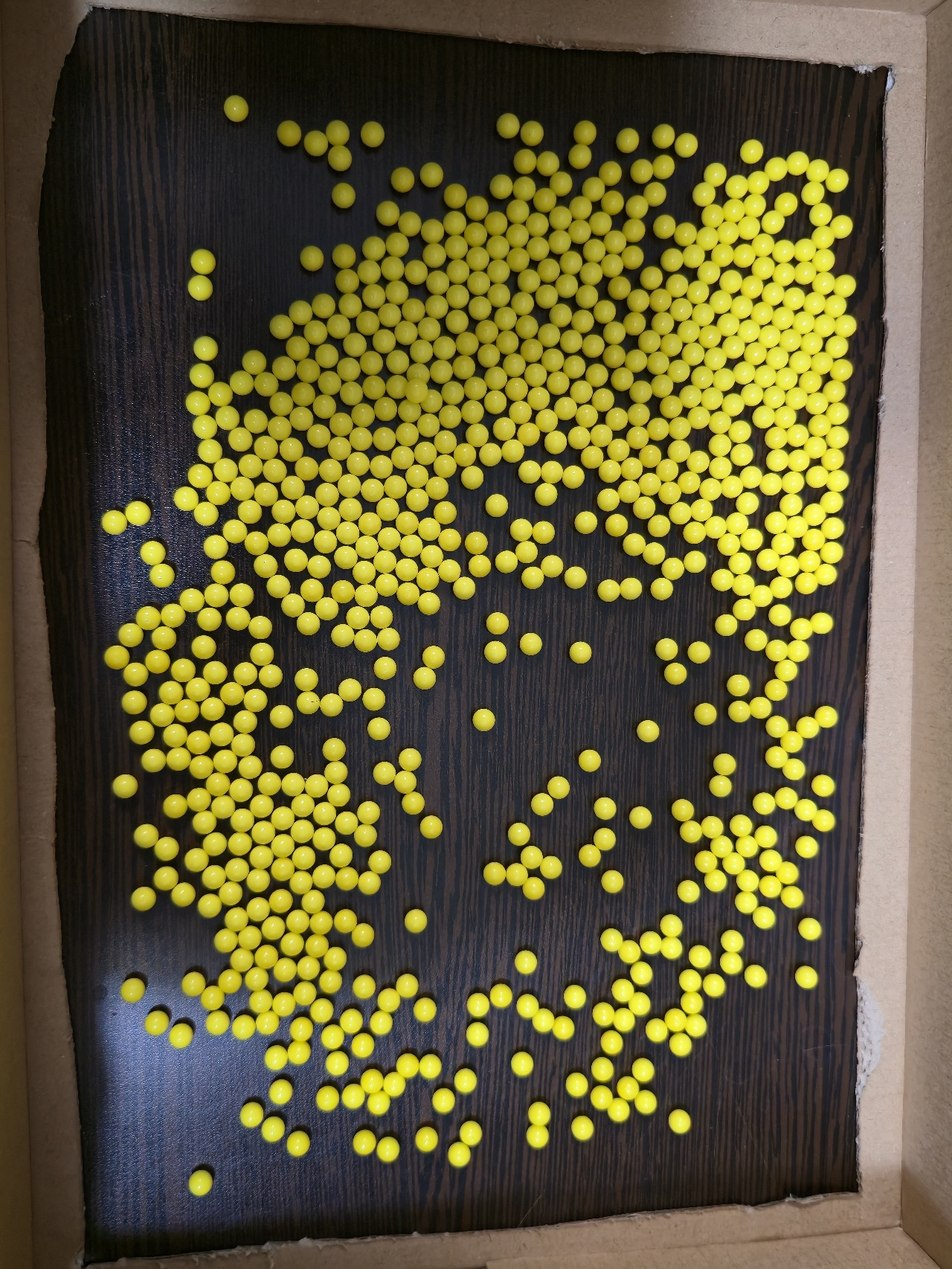yellow_bead: (199, 507, 212, 521), (180, 492, 193, 506), (193, 281, 206, 295), (131, 507, 144, 520), (234, 433, 247, 446), (221, 411, 234, 424), (108, 515, 120, 529), (758, 912, 771, 924), (209, 541, 222, 553), (219, 464, 233, 475), (460, 1076, 472, 1088), (637, 1064, 649, 1076), (750, 970, 762, 982), (689, 556, 701, 568), (791, 521, 803, 533), (715, 462, 727, 474), (204, 445, 216, 457), (758, 411, 770, 423), (807, 187, 819, 199), (466, 1127, 477, 1140), (674, 1115, 685, 1128), (331, 1059, 344, 1070), (472, 1028, 483, 1041), (252, 903, 263, 916), (795, 623, 808, 634), (772, 455, 785, 466), (790, 430, 803, 441), (699, 187, 710, 200), (771, 163, 782, 176), (801, 971, 812, 983), (521, 956, 532, 968), (646, 937, 657, 949), (727, 935, 739, 946), (805, 923, 816, 935), (801, 841, 813, 852), (800, 804, 812, 815), (599, 803, 611, 814), (751, 634, 762, 646), (808, 509, 820, 520), (745, 472, 757, 483), (524, 466, 536, 477), (736, 449, 748, 460), (832, 431, 843, 443), (791, 393, 803, 404), (739, 367, 750, 379), (199, 343, 210, 355), (832, 341, 843, 353), (728, 341, 739, 353), (715, 296, 727, 307), (731, 181, 742, 193), (267, 1123, 277, 1136), (776, 539, 789, 549), (811, 472, 824, 482), (517, 1057, 528, 1068), (636, 968, 647, 979), (666, 943, 677, 954), (666, 920, 677, 931), (684, 886, 695, 897), (710, 876, 721, 887), (607, 876, 618, 887), (765, 855, 776, 866), (736, 820, 747, 831), (819, 815, 830, 826), (635, 812, 646, 823), (277, 812, 288, 823), (759, 798, 770, 809), (789, 764, 800, 775), (147, 754, 158, 765), (643, 725, 654, 736), (490, 646, 501, 657), (721, 620, 732, 631), (817, 618, 828, 629), (626, 583, 637, 594), (459, 582, 470, 593), (776, 582, 787, 593), (718, 574, 729, 585), (570, 572, 581, 583), (362, 541, 373, 552), (747, 534, 758, 545), (516, 524, 527, 535), (675, 507, 686, 518), (742, 498, 753, 509), (788, 477, 799, 488), (832, 475, 843, 486), (420, 447, 431, 458), (810, 442, 821, 453), (715, 440, 726, 451), (199, 421, 210, 432), (250, 415, 261, 426), (542, 414, 553, 425), (780, 412, 791, 423), (747, 389, 758, 400), (236, 377, 247, 388), (760, 371, 771, 382), (710, 353, 721, 364), (744, 326, 755, 337), (820, 320, 831, 331), (723, 319, 734, 330), (725, 275, 736, 286), (704, 266, 715, 277), (812, 165, 823, 176), (652, 1024, 662, 1036), (538, 1015, 548, 1027), (710, 980, 720, 992), (774, 610, 786, 620), (667, 563, 679, 573), (734, 558, 746, 568), (711, 521, 721, 533), (706, 483, 716, 495), (245, 460, 257, 470), (297, 412, 307, 424), (796, 356, 806, 368), (779, 312, 789, 324), (840, 280, 850, 292), (817, 232, 829, 242), (837, 221, 847, 233), (572, 990, 581, 1003), (296, 825, 309, 834), (147, 547, 160, 556), (228, 525, 241, 534), (343, 480, 356, 489), (268, 464, 281, 473), (348, 1016, 358, 1027), (411, 915, 422, 925), (742, 876, 753, 886), (208, 870, 219, 880), (599, 833, 610, 843), (762, 831, 772, 842), (140, 829, 151, 839), (781, 793, 792, 803), (715, 781, 726, 791), (772, 722, 783, 732), (479, 714, 489, 725), (694, 647, 705, 657), (793, 646, 804, 656), (661, 644, 672, 654), (828, 547, 838, 558), (826, 497, 837, 507), (603, 494, 614, 504), (237, 482, 248, 492), (287, 481, 298, 491), (766, 478, 776, 489), (645, 478, 655, 489), (376, 461, 387, 471), (353, 457, 364, 467), (694, 456, 704, 467), (828, 454, 839, 464), (674, 446, 685, 456), (574, 432, 585, 442), (473, 429, 483, 440), (736, 426, 746, 437), (807, 376, 817, 387), (720, 374, 730, 385), (782, 373, 792, 384), (773, 353, 783, 364), (751, 348, 761, 359), (765, 331, 775, 342), (840, 321, 851, 331), (789, 293, 800, 303), (780, 269, 790, 280), (801, 268, 811, 279), (689, 250, 699, 261), (800, 244, 811, 254), (745, 222, 755, 233), (750, 200, 760, 211), (747, 145, 758, 155), (319, 1004, 328, 1016), (697, 951, 706, 963), (608, 934, 617, 946), (741, 899, 753, 908), (335, 849, 347, 858), (119, 780, 131, 789), (287, 778, 299, 787), (275, 710, 287, 719), (344, 684, 356, 693), (337, 629, 349, 638), (302, 617, 314, 626), (155, 569, 167, 578), (379, 556, 391, 565), (521, 547, 533, 556), (297, 524, 309, 533), (302, 501, 314, 510), (321, 489, 333, 498), (550, 437, 562, 446), (834, 408, 843, 420), (709, 393, 718, 405), (787, 335, 796, 347), (678, 303, 687, 315), (738, 301, 747, 313), (820, 254, 829, 266), (620, 984, 628, 997), (231, 612, 244, 620), (210, 589, 223, 597), (272, 580, 285, 588), (340, 551, 353, 559), (319, 536, 332, 544), (578, 1125, 588, 1135), (701, 709, 711, 719), (782, 665, 792, 675), (576, 647, 586, 657), (650, 548, 660, 558), (640, 502, 650, 512), (212, 486, 222, 496), (356, 433, 366, 443), (500, 423, 510, 433), (561, 402, 571, 412), (686, 391, 696, 401), (698, 372, 708, 382), (684, 326, 694, 336), (759, 239, 769, 249), (793, 157, 803, 167), (677, 1040, 686, 1051), (213, 1018, 224, 1027), (402, 980, 413, 989), (726, 959, 737, 968), (231, 913, 242, 922), (204, 899, 213, 910), (231, 864, 242, 873), (731, 858, 740, 869), (526, 851, 537, 860), (744, 841, 753, 852), (718, 841, 727, 852), (257, 826, 268, 835), (709, 821, 718, 832), (237, 814, 248, 823), (363, 806, 374, 815), (537, 799, 548, 808), (379, 767, 390, 776), (719, 759, 730, 768), (805, 722, 814, 733), (823, 711, 832, 722), (327, 699, 338, 708), (376, 611, 387, 620), (758, 591, 767, 602), (740, 580, 749, 591), (629, 539, 640, 548), (345, 504, 356, 513), (541, 489, 552, 498), (625, 486, 634, 497), (412, 470, 423, 479), (547, 466, 558, 475), (596, 430, 607, 439), (817, 420, 826, 431), (717, 417, 726, 428), (695, 412, 704, 423), (515, 407, 526, 416), (730, 399, 739, 410), (599, 394, 608, 405), (829, 387, 840, 396), (352, 339, 361, 350), (700, 309, 709, 320), (811, 298, 820, 309), (695, 286, 704, 297), (525, 1000, 533, 1012), (687, 974, 695, 986), (256, 800, 268, 808), (276, 751, 288, 759), (237, 739, 249, 747), (419, 672, 431, 680), (265, 670, 277, 678), (256, 648, 268, 656), (287, 599, 299, 607), (185, 594, 197, 602), (323, 513, 335, 521), (243, 506, 255, 514), (277, 505, 289, 513), (785, 499, 797, 507), (367, 484, 379, 492), (684, 139, 692, 151), (533, 1134, 543, 1143), (238, 1024, 247, 1034), (378, 1019, 387, 1029), (138, 892, 148, 901), (785, 867, 794, 877), (547, 861, 556, 871), (161, 842, 171, 851), (554, 782, 564, 791), (773, 752, 782, 762), (734, 680, 744, 689), (774, 645, 783, 655), (526, 638, 536, 647), (383, 633, 393, 642), (741, 604, 750, 614), (657, 583, 667, 592), (803, 578, 812, 588), (528, 572, 538, 581), (823, 569, 832, 579), (811, 534, 820, 544), (692, 527, 701, 537), (425, 523, 435, 532), (413, 494, 423, 503), (569, 471, 579, 480), (663, 465, 673, 474), (398, 452, 408, 461), (508, 445, 518, 454), (286, 443, 296, 452), (335, 443, 345, 452), (442, 436, 451, 446), (314, 430, 324, 439), (469, 405, 478, 415), (659, 380, 668, 390), (818, 358, 827, 368), (418, 347, 428, 356), (441, 344, 451, 353), (808, 338, 817, 348), (425, 323, 435, 332), (759, 309, 768, 319), (832, 301, 841, 311), (674, 280, 683, 290), (644, 1097, 652, 1108), (176, 1034, 187, 1042), (693, 1021, 701, 1032), (621, 1015, 629, 1026), (637, 999, 645, 1010), (791, 891, 799, 902), (318, 870, 329, 878), (374, 856, 385, 864), (255, 852, 266, 860), (297, 800, 308, 808), (822, 780, 830, 791), (311, 780, 322, 788), (264, 777, 275, 785), (244, 761, 255, 769), (405, 754, 416, 762), (216, 728, 227, 736), (136, 726, 147, 734), (128, 696, 139, 704), (368, 693, 379, 701), (380, 662, 391, 670), (353, 612, 364, 620), (361, 590, 372, 598), (359, 566, 370, 574), (547, 561, 558, 569), (384, 533, 395, 541), (654, 521, 665, 529), (492, 500, 503, 508), (667, 487, 675, 498), (391, 481, 402, 489), (467, 472, 478, 480), (485, 449, 496, 457), (691, 348, 699, 359), (333, 790, 345, 797), (399, 777, 411, 784), (373, 723, 385, 730), (239, 716, 251, 723), (300, 674, 312, 681), (239, 668, 251, 675), (321, 603, 333, 610), (236, 589, 248, 596), (216, 566, 228, 573), (313, 561, 325, 568), (290, 554, 302, 561), (260, 488, 272, 495), (350, 1094, 359, 1103), (190, 853, 199, 862), (503, 556, 512, 565), (686, 477, 695, 486), (607, 466, 616, 475), (628, 463, 637, 472), (262, 441, 271, 450), (405, 428, 414, 437), (614, 414, 623, 423), (402, 328, 411, 337), (335, 321, 344, 330), (196, 256, 205, 265), (704, 233, 713, 242), (189, 978, 199, 986), (268, 922, 278, 930), (308, 896, 318, 904), (178, 888, 188, 896), (365, 877, 375, 885), (161, 872, 171, 880), (299, 852, 309, 860), (209, 838, 219, 846), (329, 743, 339, 751), (735, 706, 745, 714), (758, 702, 766, 712), (192, 683, 202, 691), (210, 666, 220, 674), (199, 641, 209, 649), (361, 634, 371, 642), (424, 597, 434, 605), (727, 539, 735, 549), (326, 464, 336, 472), (382, 433, 390, 443), (426, 420, 434, 430), (583, 410, 593, 418), (634, 409, 644, 417), (536, 393, 544, 403), (579, 386, 587, 396), (556, 377, 564, 387), (591, 340, 599, 350), (750, 281, 758, 291), (761, 263, 769, 273), (538, 1108, 545, 1119), (386, 994, 393, 1005), (628, 946, 635, 957), (689, 826, 696, 837), (217, 802, 228, 809), (236, 785, 247, 792), (330, 767, 341, 774), (219, 755, 230, 762), (156, 709, 167, 716), (775, 684, 782, 695), (124, 629, 135, 636), (255, 622, 266, 629), (167, 609, 178, 616), (382, 579, 393, 586), (273, 529, 284, 536), (581, 517, 592, 524), (677, 365, 684, 376), (840, 364, 847, 375), (570, 335, 577, 346), (383, 335, 390, 346), (498, 289, 505, 300), (566, 280, 573, 291), (245, 1108, 254, 1116), (440, 1099, 449, 1107), (130, 984, 138, 993), (226, 888, 235, 896), (513, 869, 522, 877), (704, 858, 712, 867), (320, 834, 329, 842), (672, 668, 681, 676), (144, 611, 152, 620), (446, 565, 455, 573), (275, 423, 284, 431), (559, 309, 567, 318), (435, 301, 443, 310), (742, 251, 750, 260), (725, 228, 733, 237), (360, 980, 367, 990), (220, 935, 230, 942), (588, 755, 595, 765), (170, 729, 180, 736), (493, 618, 503, 625), (205, 613, 215, 620), (401, 564, 411, 571), (403, 517, 413, 524), (441, 460, 451, 467), (617, 444, 624, 454), (678, 423, 685, 433), (350, 388, 357, 398), (249, 359, 259, 366), (396, 356, 403, 366), (662, 318, 669, 328), (671, 254, 678, 264), (195, 1177, 206, 1183), (234, 839, 245, 845), (158, 632, 169, 638), (416, 385, 422, 396), (457, 316, 463, 327), (390, 309, 396, 320), (616, 1109, 624, 1117), (574, 1082, 582, 1090), (304, 963, 312, 971), (332, 952, 340, 960), (429, 821, 437, 829), (635, 432, 643, 440), (371, 293, 379, 301), (436, 279, 444, 287), (427, 1063, 436, 1070), (199, 817, 208, 824), (791, 738, 798, 747), (208, 703, 217, 710), (251, 537, 260, 544), (446, 534, 455, 541), (827, 523, 836, 530), (384, 504, 393, 511), (434, 482, 443, 489), (303, 462, 312, 469), (656, 423, 663, 432), (451, 387, 458, 396), (495, 373, 502, 382), (440, 366, 447, 375), (573, 362, 580, 371), (552, 355, 559, 364), (548, 330, 555, 339), (613, 327, 620, 336), (479, 303, 486, 312), (521, 298, 528, 307), (478, 278, 485, 287), (433, 251, 440, 260), (559, 213, 566, 222), (602, 1064, 608, 1074), (253, 876, 263, 882), (166, 687, 176, 693), (514, 359, 520, 369), (649, 336, 655, 346), (505, 313, 511, 323), (457, 1152, 464, 1160), (376, 1101, 384, 1108), (477, 998, 484, 1006), (302, 988, 309, 996), (282, 964, 290, 971), (246, 932, 254, 939), (295, 916, 303, 923), (681, 805, 689, 812), (411, 797, 419, 804), (194, 794, 202, 801), (132, 668, 140, 675), (180, 664, 187, 672), (476, 560, 484, 567), (366, 518, 374, 525), (448, 411, 455, 419), (635, 356, 642, 364), (280, 323, 287, 331), (395, 287, 402, 295), (590, 269, 597, 277), (720, 251, 728, 258), (614, 237, 621, 245), (599, 219, 606, 227), (362, 831, 371, 837), (173, 754, 182, 760), (430, 652, 439, 658), (405, 588, 414, 594), (308, 585, 317, 591), (762, 554, 771, 560), (614, 519, 623, 525), (495, 396, 501, 405), (640, 387, 646, 396), (329, 377, 335, 386), (535, 369, 541, 378), (348, 364, 354, 373), (671, 340, 677, 349), (350, 301, 356, 310), (587, 292, 593, 301), (457, 291, 463, 300), (498, 266, 504, 275), (369, 266, 375, 275), (664, 221, 670, 230), (626, 135, 632, 144), (771, 517, 781, 522), (727, 481, 737, 486), (259, 997, 266, 1004), (239, 955, 246, 962), (298, 878, 305, 885), (493, 868, 500, 875), (323, 402, 330, 409), (314, 329, 321, 336), (650, 273, 657, 280), (431, 227, 438, 234), (453, 219, 460, 226), (474, 537, 482, 543), (443, 507, 451, 513), (197, 469, 205, 475), (590, 452, 598, 458), (638, 295, 644, 303), (416, 267, 422, 275), (477, 254, 483, 262), (498, 243, 504, 251), (559, 237, 565, 245), (637, 202, 643, 210), (654, 188, 660, 196), (232, 104, 238, 112), (771, 884, 776, 893), (672, 402, 677, 411), (432, 396, 437, 405), (597, 370, 602, 379), (658, 358, 663, 367), (327, 351, 332, 360), (605, 306, 610, 315), (547, 292, 552, 301), (612, 260, 617, 269), (457, 242, 462, 251), (195, 736, 202, 742), (347, 531, 354, 537), (516, 384, 522, 391), (283, 364, 289, 371), (489, 352, 495, 359), (299, 309, 306, 315), (322, 303, 329, 309), (457, 268, 464, 274), (392, 264, 398, 271), (594, 247, 600, 254), (373, 245, 379, 252), (538, 244, 544, 251), (282, 1000, 287, 1008), (590, 850, 595, 858), (425, 574, 433, 579), (696, 504, 704, 509), (408, 410, 416, 415), (530, 276, 535, 284), (571, 259, 576, 267), (397, 240, 402, 248), (686, 229, 691, 237), (580, 228, 585, 236), (594, 184, 599, 192), (289, 940, 295, 946), (533, 884, 539, 890), (199, 762, 205, 768), (785, 561, 794, 565), (411, 544, 417, 550), (280, 400, 286, 406), (475, 385, 481, 391), (582, 318, 588, 324), (580, 205, 586, 211), (643, 167, 647, 176), (330, 1036, 335, 1043), (329, 978, 336, 983), (623, 376, 628, 383), (615, 352, 620, 359), (508, 338, 513, 345), (519, 207, 524, 214), (525, 185, 530, 192), (549, 159, 553, 167), (665, 131, 669, 139), (602, 1011, 607, 1017), (362, 929, 367, 935), (173, 800, 178, 806), (216, 780, 222, 785), (303, 698, 308, 704), (342, 585, 347, 591), (431, 554, 437, 559), (651, 451, 656, 457), (466, 451, 471, 457), (341, 420, 347, 425), (362, 412, 367, 418), (528, 324, 533, 330), (660, 298, 666, 303), (501, 183, 507, 188), (832, 182, 838, 187), (664, 164, 669, 170), (393, 1082, 397, 1089), (115, 651, 119, 658), (732, 518, 739, 522), (530, 428, 534, 435), (417, 369, 424, 373), (373, 359, 377, 366), (519, 233, 523, 240), (756, 176, 763, 180), (805, 556, 814, 559), (693, 1002, 698, 1007), (232, 689, 237, 694), (609, 590, 614, 595), (779, 434, 784, 439), (633, 254, 638, 259), (538, 222, 543, 227), (256, 974, 259, 982), (280, 896, 284, 902), (349, 820, 353, 826), (267, 380, 271, 386), (533, 347, 537, 353), (635, 227, 639, 233), (562, 179, 566, 185), (581, 152, 585, 158), (509, 123, 513, 129), (794, 455, 801, 458), (298, 1051, 302, 1056), (185, 705, 189, 710), (465, 365, 469, 370), (468, 341, 472, 346), (410, 221, 415, 225), (388, 211, 393, 215), (821, 208, 826, 212), (387, 1148, 390, 1154), (425, 1008, 428, 1014), (637, 321, 640, 327), (369, 318, 372, 324), (714, 210, 716, 219), (488, 330, 492, 334), (414, 309, 418, 313), (550, 268, 554, 272), (276, 1087, 281, 1090), (155, 656, 158, 661), (268, 563, 271, 568), (386, 406, 389, 411), (341, 156, 344, 161), (321, 920, 324, 924), (283, 866, 286, 870), (521, 834, 524, 838), (811, 399, 815, 402), (622, 285, 625, 289), (498, 222, 502, 225), (479, 206, 482, 210), (285, 845, 288, 848), (327, 812, 330, 815), (257, 699, 260, 702), (740, 519, 743, 522), (704, 506, 707, 509), (770, 400, 773, 403), (770, 392, 773, 395), (806, 318, 809, 321), (521, 258, 524, 261), (478, 234, 481, 237), (432, 173, 435, 176), (318, 142, 321, 145), (678, 1019, 680, 1023), (774, 432, 778, 434), (206, 373, 208, 377), (313, 256, 315, 260), (535, 130, 537, 134), (362, 1143, 364, 1146), (771, 556, 774, 558), (298, 347, 300, 350), (349, 280, 351, 283), (768, 217, 771, 219), (790, 199, 792, 202), (547, 198, 550, 200), (345, 195, 347, 198), (374, 134, 376, 137), (338, 132, 341, 134), (301, 1030, 303, 1032), (342, 823, 344, 825), (249, 699, 251, 701), (342, 531, 344, 533), (792, 460, 794, 462), (802, 456, 804, 458), (801, 317, 805, 318), (769, 289, 771, 291), (827, 278, 829, 280), (613, 172, 615, 174), (527, 158, 529, 160), (408, 1064, 409, 1067), (837, 174, 840, 175), (603, 1100, 604, 1102), (613, 1042, 614, 1044), (820, 399, 822, 400), (817, 398, 819, 399), (305, 393, 306, 395), (815, 218, 817, 219), (614, 202, 615, 204), (754, 178, 756, 179), (840, 175, 842, 176), (715, 168, 717, 169), (318, 944, 319, 945), (277, 845, 278, 846), (514, 833, 515, 834), (260, 697, 261, 698), (406, 544, 407, 545), (837, 524, 838, 525), (195, 473, 196, 474), (812, 407, 813, 408), (774, 391, 775, 392), (214, 391, 215, 392), (376, 386, 377, 387), (196, 371, 197, 372), (309, 370, 310, 371), (773, 288, 774, 289), (346, 256, 347, 257), (781, 246, 782, 247), (710, 177, 711, 178), (589, 132, 590, 133), (631, 1090, 631, 1091), (155, 1021, 157, 1021), (268, 1020, 268, 1021), (231, 980, 231, 980), (205, 476, 205, 478), (794, 464, 794, 465), (397, 382, 398, 382), (199, 370, 199, 370), (826, 277, 826, 278), (774, 216, 775, 216), (405, 179, 405, 180), (719, 170, 720, 170), (588, 133, 588, 134)
